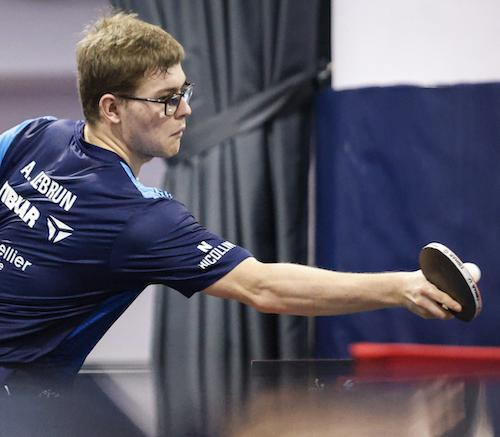ball_pingpong: (464, 260, 483, 282)
